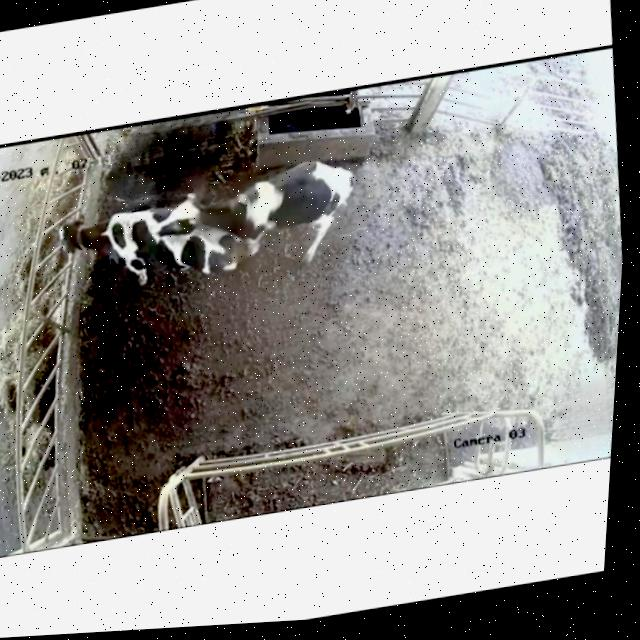propping: (141, 182, 246, 267)
